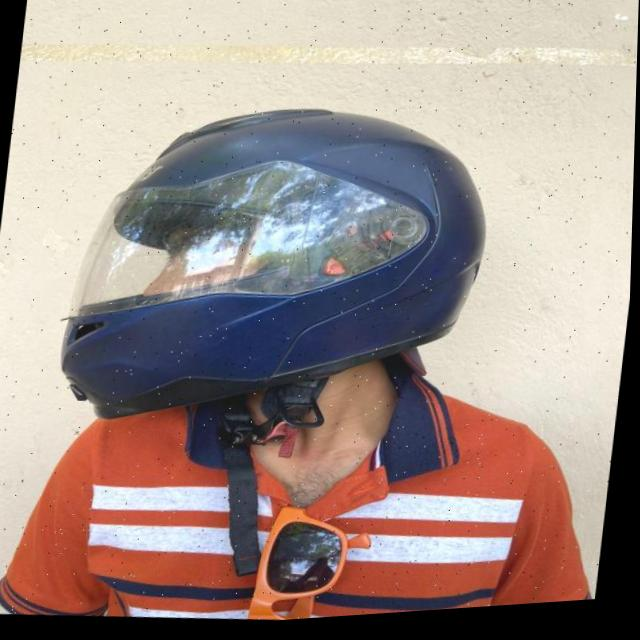helmet: (34, 87, 500, 610)
